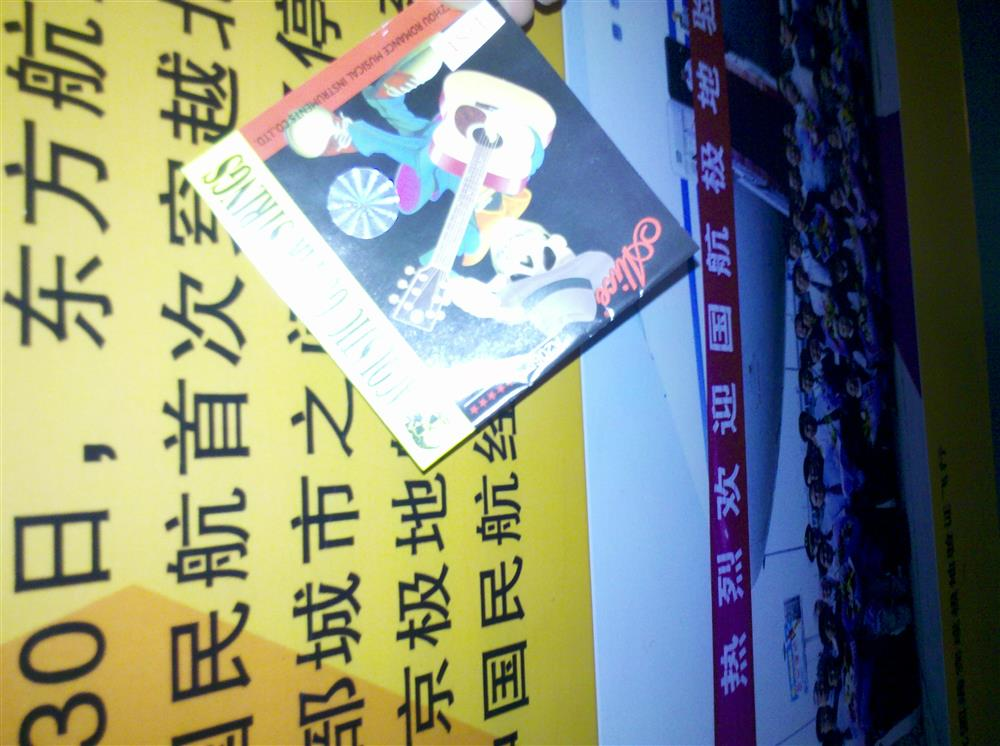Alice_Guitar_String_Packaging: (179, 1, 699, 478)
